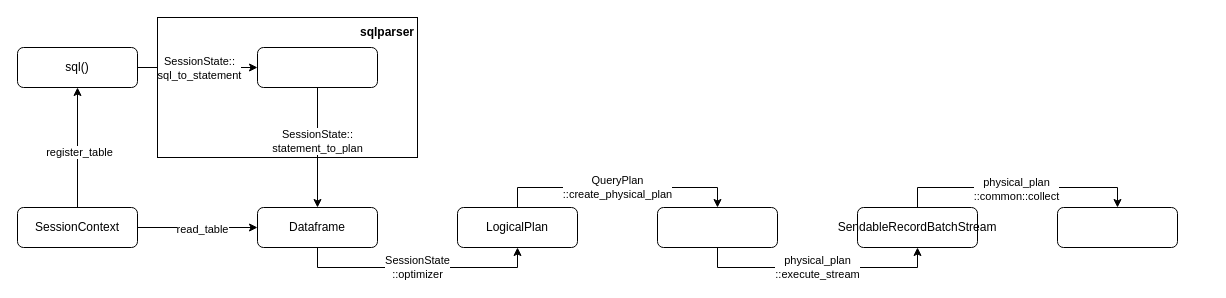
Some shapes in this 1226 by 298 pixel diagram are drawn without their labels. Each missing label, with the centre of its shape:
"arrow::record_batch::RecordBatch" goes at (x=1117, y=227).
"ExecutionPlan" goes at (x=717, y=227).
"Statement" goes at (x=317, y=67).
